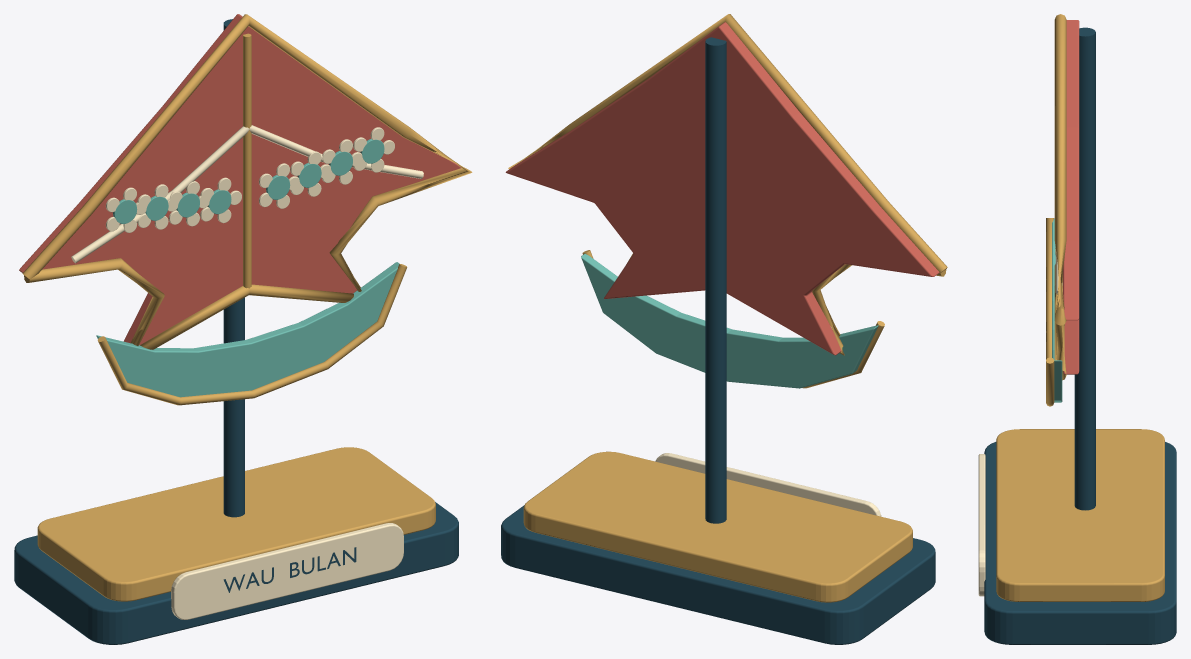
3 views of the same model, side by side, from view 1: azimuth 30°, elevation 25°; view 2: azimuth 150°, elevation 25°; view 3: azimuth 270°, elevation 25° (orthographic). The views are drawn at different scales.
Parts seen in each view (by area): view 1: Kelantan | Wau Light - Kite, Kelantan | Wau Light - Cabinetry, Kelantan | Wau Light - Graphics, Kelantan | Wau Light - Metalwork; view 2: Kelantan | Wau Light - Kite, Kelantan | Wau Light - Cabinetry, Kelantan | Wau Light - Metalwork, Kelantan | Wau Light - Graphics; view 3: Kelantan | Wau Light - Cabinetry, Kelantan | Wau Light - Metalwork, Kelantan | Wau Light - Graphics, Kelantan | Wau Light - Kite.
Boxes of the visible parts, box(x1,y1,x2,y2) form: Kelantan | Wau Light - Kite: box(19, 14, 460, 397); Kelantan | Wau Light - Cabinetry: box(14, 447, 458, 644); Kelantan | Wau Light - Graphics: box(22, 14, 472, 619); Kelantan | Wau Light - Metalwork: box(223, 19, 244, 517); Kelantan | Wau Light - Kite: box(505, 22, 939, 388); Kelantan | Wau Light - Cabinetry: box(501, 451, 935, 644); Kelantan | Wau Light - Metalwork: box(705, 37, 726, 523); Kelantan | Wau Light - Graphics: box(508, 14, 947, 516); Kelantan | Wau Light - Cabinetry: box(984, 429, 1176, 644); Kelantan | Wau Light - Metalwork: box(1074, 27, 1095, 510); Kelantan | Wau Light - Graphics: box(978, 14, 1066, 596); Kelantan | Wau Light - Kite: box(1052, 20, 1079, 402).
Bounding box in the file's own units: 2.14 × 2.56 × 0.855.
